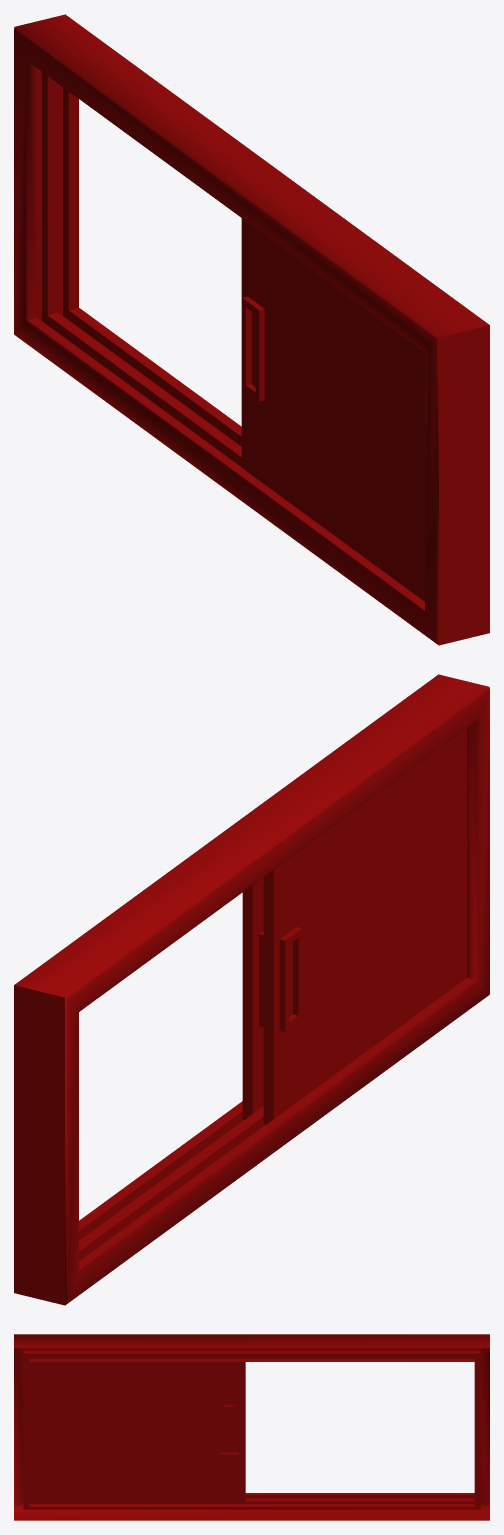
Rendered from sub_BookShelfDoor_Fbx.fbx.
The picture shows the model from 3 angles, top to bottom: view 1: azimuth 30°, elevation 25°; view 2: azimuth 150°, elevation 25°; view 3: azimuth 270°, elevation 25°; orthographic projection. The views are drawn at different scales.
Visible parts, largest first — view 1: Box001, Plane001; view 2: Box001, Plane001, Plane002; view 3: Plane002, Box001.
Part boxes in pixels (<box>): Box001: <box>14,14,489,645</box>; Plane001: <box>241,218,424,601</box>; Box001: <box>14,674,489,1305</box>; Plane001: <box>263,728,466,1124</box>; Plane002: <box>242,877,263,1119</box>; Plane002: <box>29,1362,245,1503</box>; Box001: <box>14,1334,489,1520</box>.
Size of the model in its own units: 66.81 by 374 by 934.
